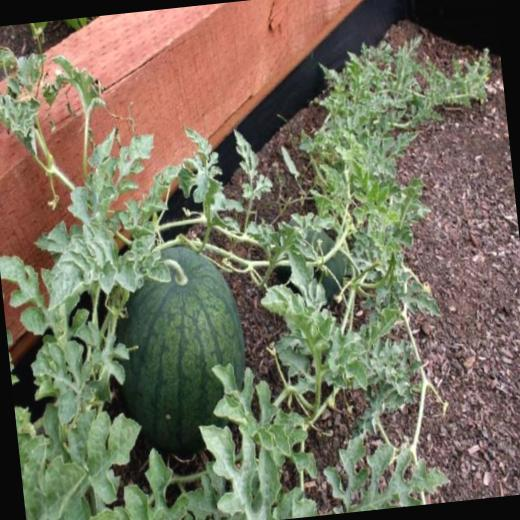Cherry: (98, 235, 257, 474)
